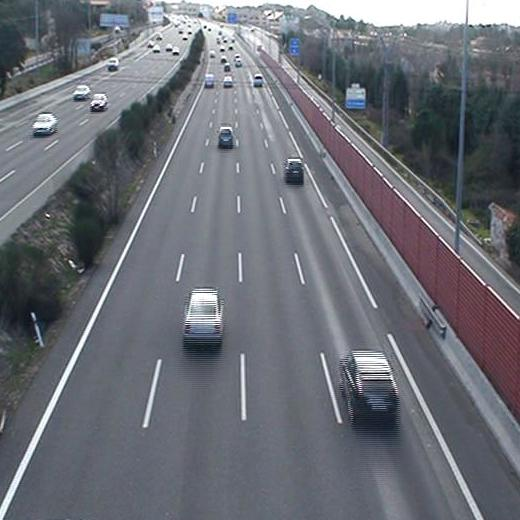car: (341, 351, 400, 427), (182, 288, 225, 345), (282, 158, 305, 185), (217, 126, 234, 145), (222, 74, 234, 89), (252, 74, 263, 87), (223, 62, 232, 71)
van: (204, 71, 217, 88)
